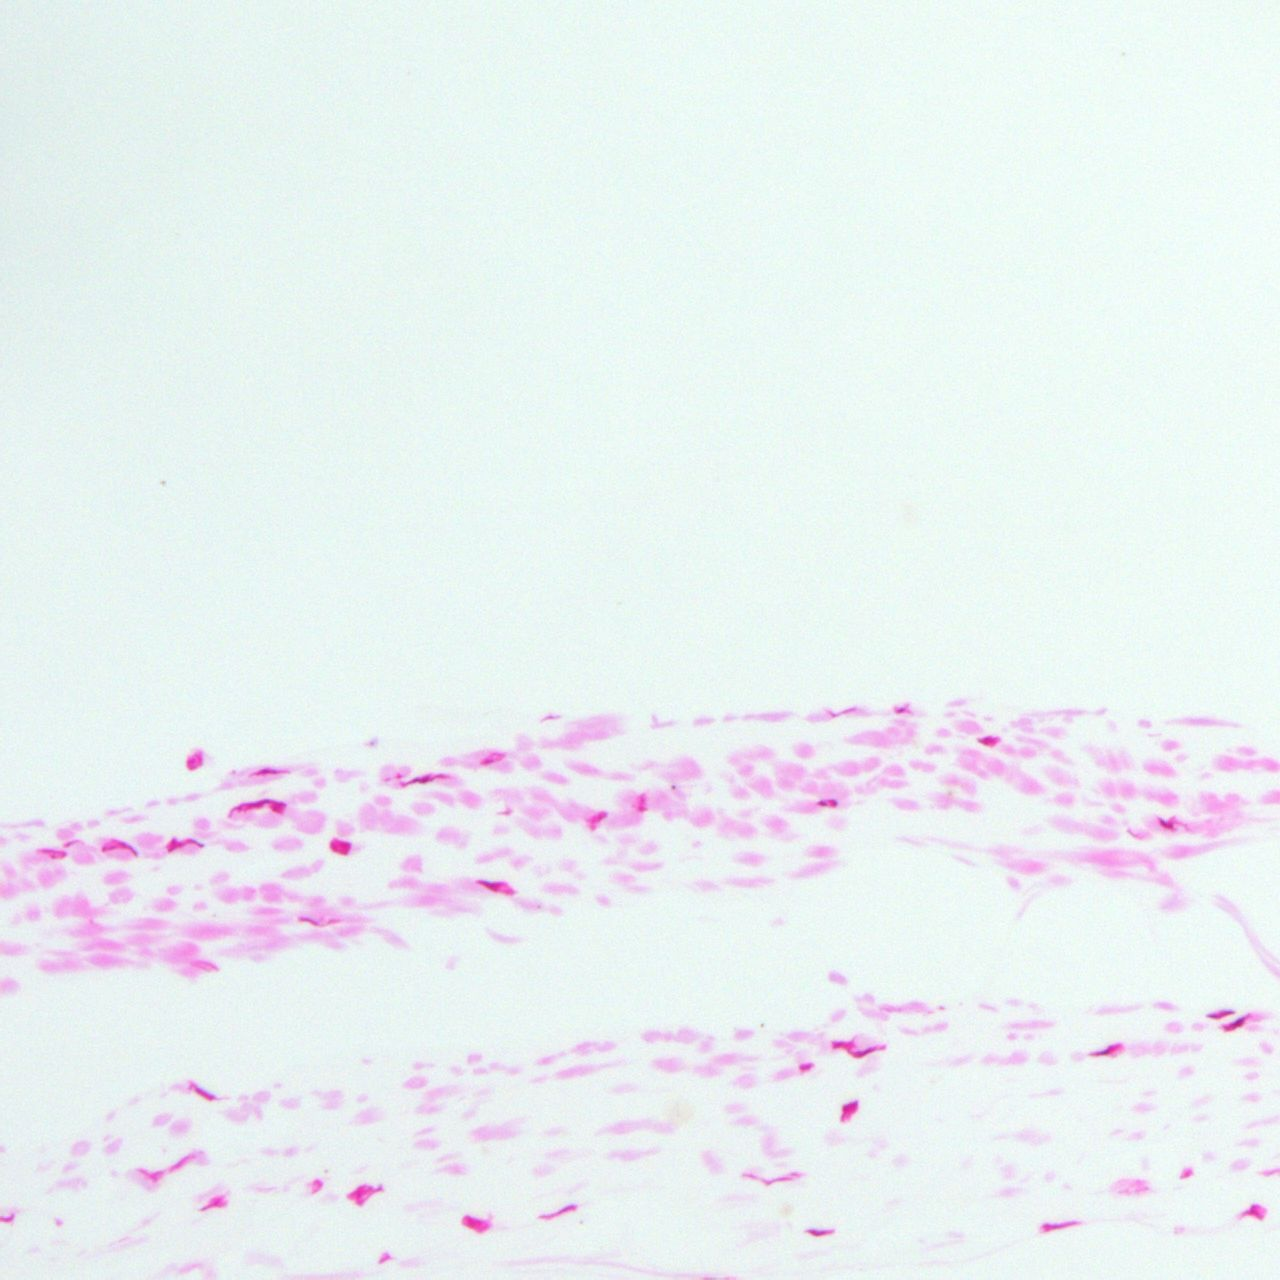dust: (159, 479, 168, 486), (670, 784, 675, 790), (760, 1022, 764, 1027), (324, 1169, 327, 1173)
nucleus-FG: (229, 797, 286, 819), (164, 829, 203, 857), (399, 769, 449, 789), (743, 1171, 801, 1187), (537, 1201, 578, 1221), (847, 1042, 888, 1062), (1039, 1217, 1080, 1234), (1087, 1041, 1125, 1058), (186, 1082, 216, 1102), (1221, 1014, 1252, 1033), (199, 1194, 226, 1214), (477, 872, 502, 893), (250, 765, 290, 778), (169, 1153, 195, 1173), (103, 840, 136, 855), (299, 915, 341, 926), (1207, 1007, 1235, 1022), (840, 1099, 857, 1123), (139, 1167, 163, 1182), (39, 849, 66, 860), (350, 1185, 365, 1206), (331, 840, 350, 855), (1242, 1204, 1262, 1218), (636, 792, 649, 812), (806, 1227, 835, 1235), (832, 1040, 855, 1049), (1158, 819, 1175, 831), (467, 1218, 482, 1228), (978, 735, 993, 745), (0, 1212, 14, 1223), (64, 838, 80, 847), (797, 1063, 813, 1070), (186, 758, 196, 770), (894, 707, 908, 714), (594, 813, 604, 822), (481, 760, 493, 765), (817, 799, 826, 806), (828, 799, 837, 806)
